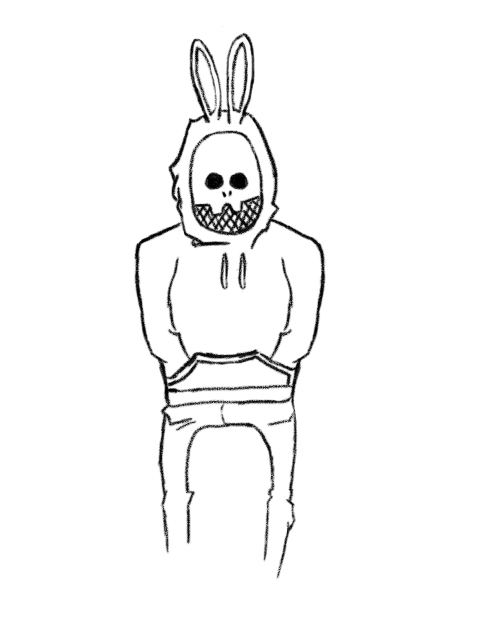cat: (172, 54, 300, 447)
